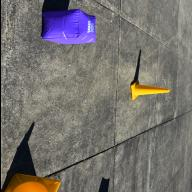cone: (4, 173, 60, 192), (130, 80, 168, 100)
cube: (40, 10, 96, 44)
